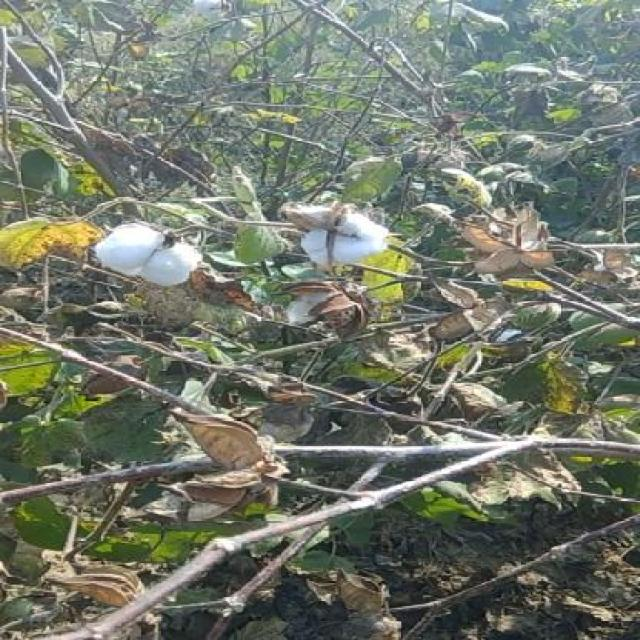cotton_ready: (71, 215, 237, 308), (278, 193, 390, 292)
